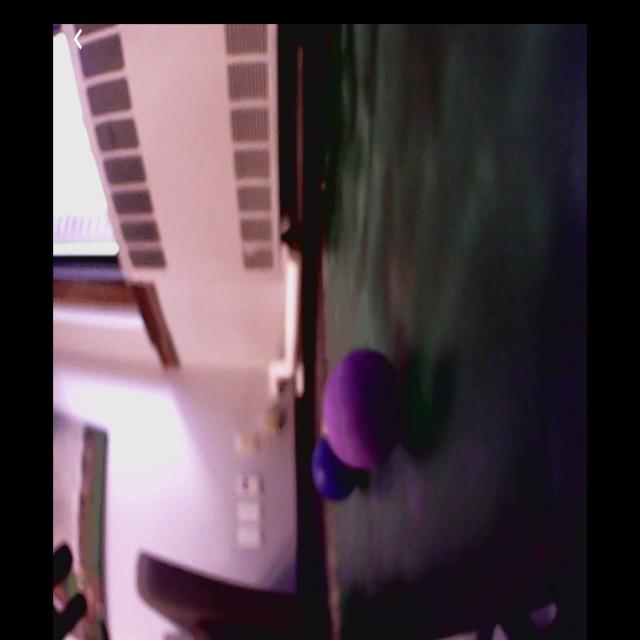ball: (324, 352, 412, 473), (313, 439, 365, 504)
